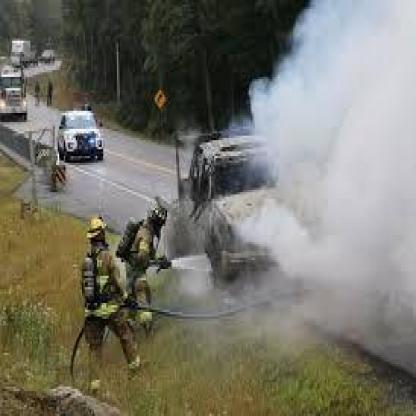smoke: (296, 0, 412, 329)
